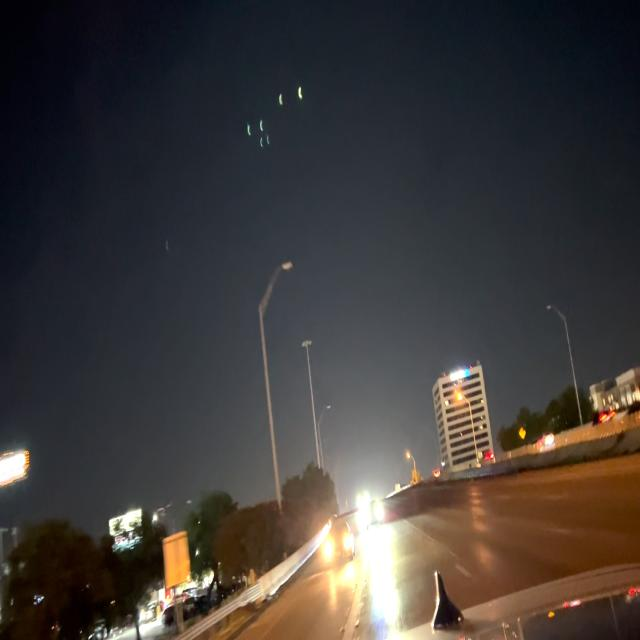back-of-sign: (161, 531, 192, 587)
